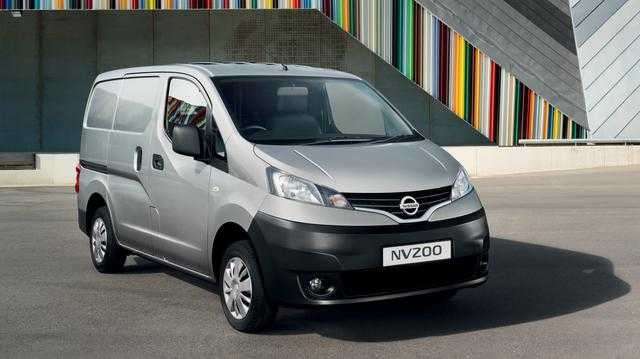van: (74, 60, 490, 333)
